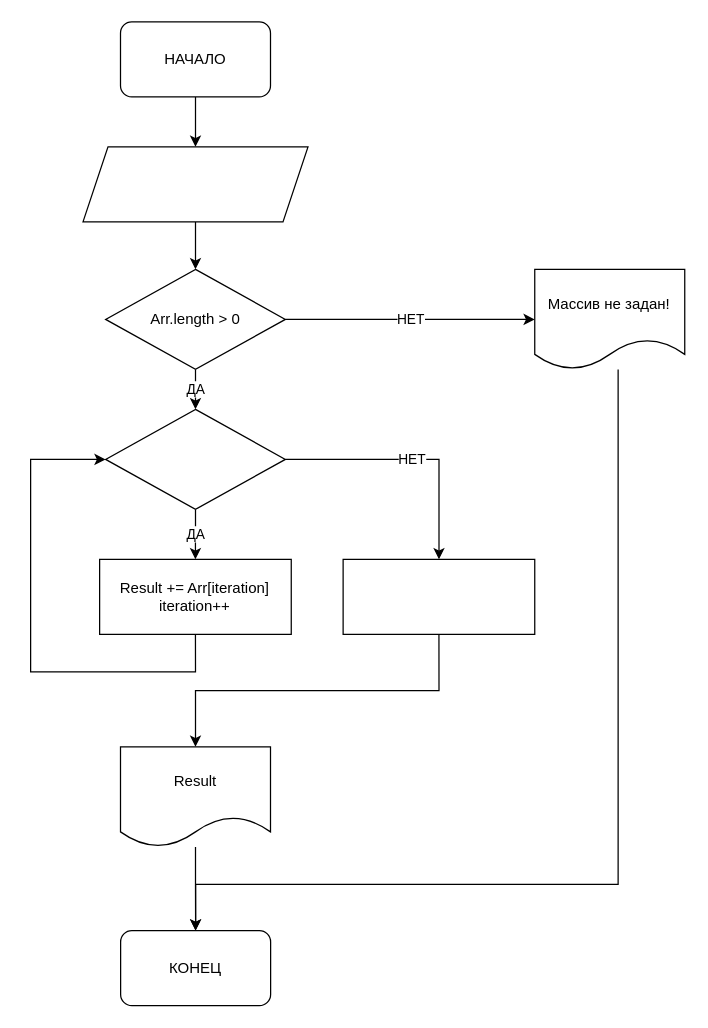
Image size: 708x1028. Some labels were removed from this diagram. Here are the shapes that lost their labels. From the top down, the centre of each, then its label:
point 195,184: Arr[], iteration=0, Result=0
point 194,458: iteration < Arr.length
point 438,596: Result /= iteration
